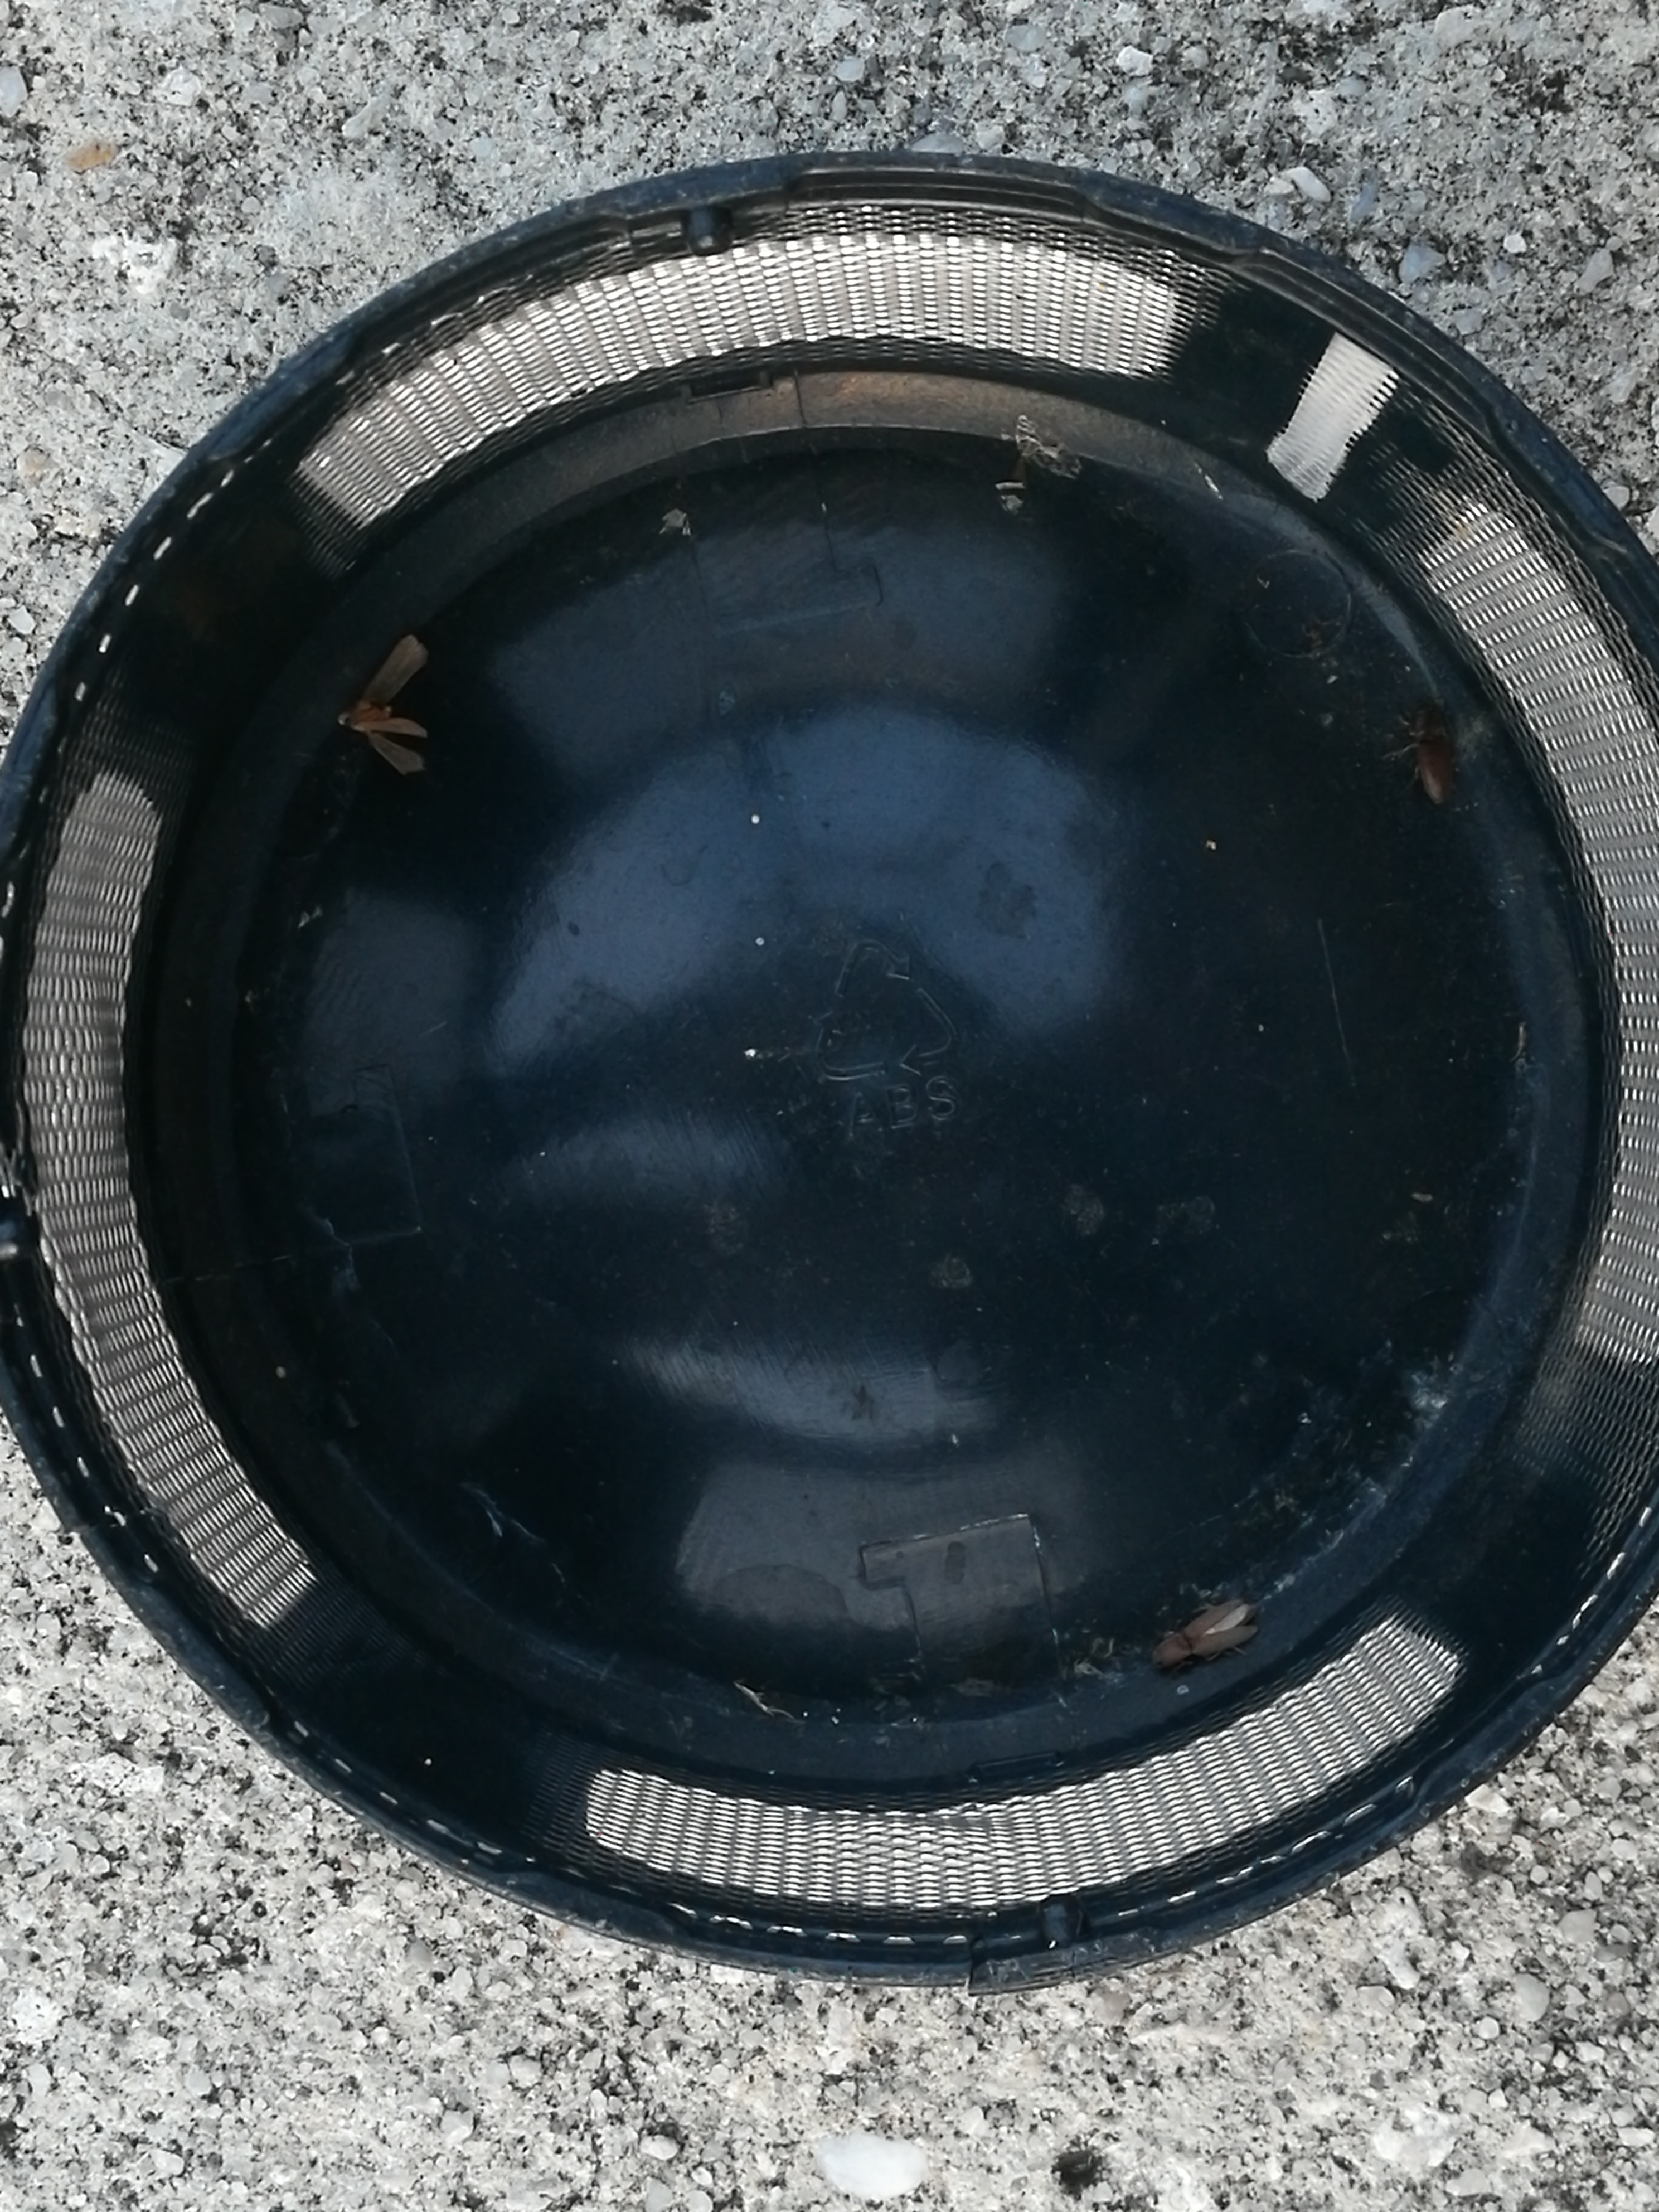mosquito: (1152, 1606, 1258, 1677), (1417, 695, 1450, 803)
moth: (355, 637, 425, 770)
